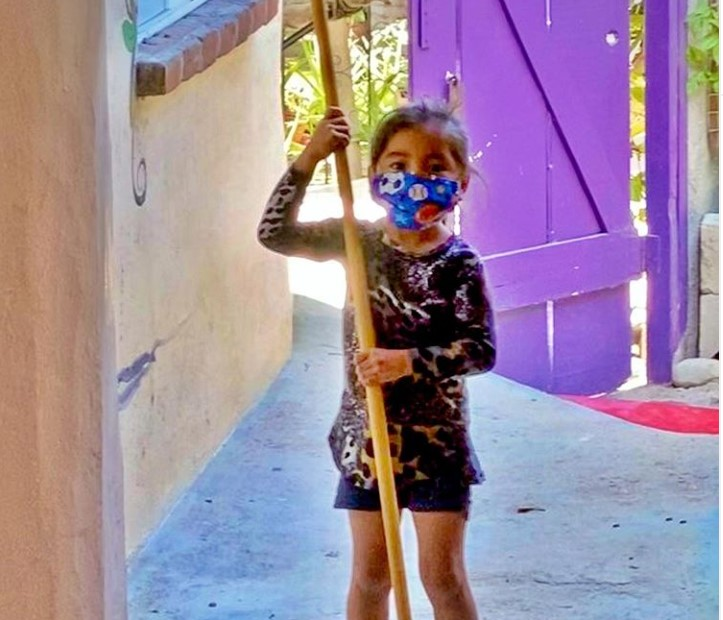face_with_mask: (371, 116, 461, 227)
